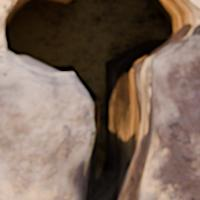broken_brick: (0, 50, 91, 199), (141, 22, 199, 199)
crack: (0, 0, 198, 199)
